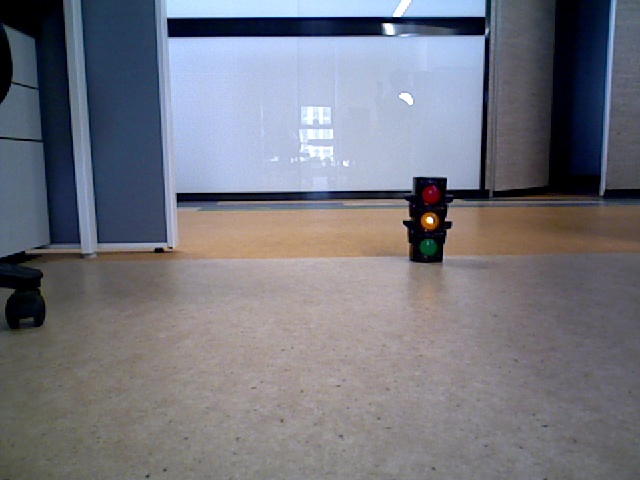yellow: (412, 180, 443, 258)
